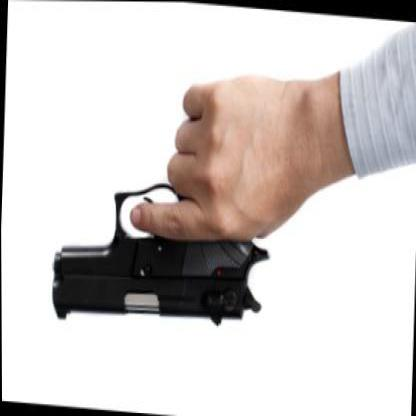pistol: (48, 171, 273, 334)
